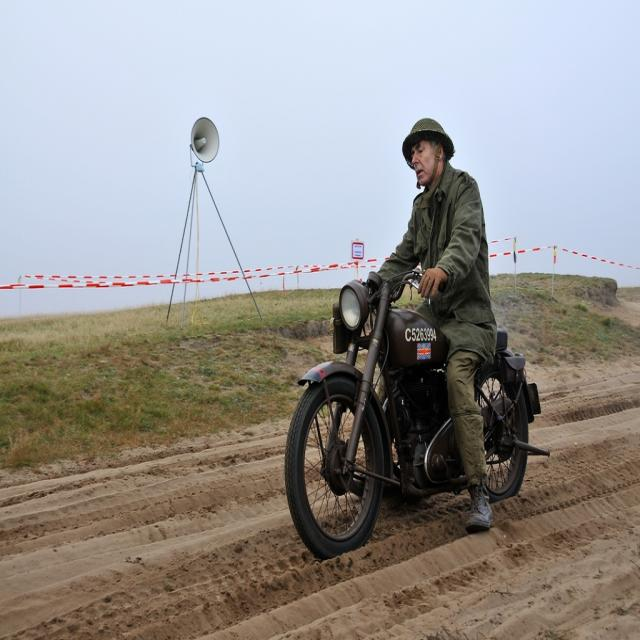Motorbikes: (283, 121, 548, 568)
